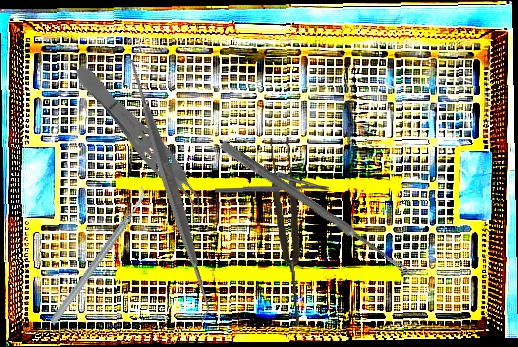Chopper: (14, 183, 181, 328)
Needle Holder: (214, 171, 330, 193)
Spatula Surgical: (32, 50, 308, 323)
Surgical Spoon: (218, 140, 413, 277)
Tissue Forceps: (66, 58, 217, 224), (267, 136, 309, 327)
